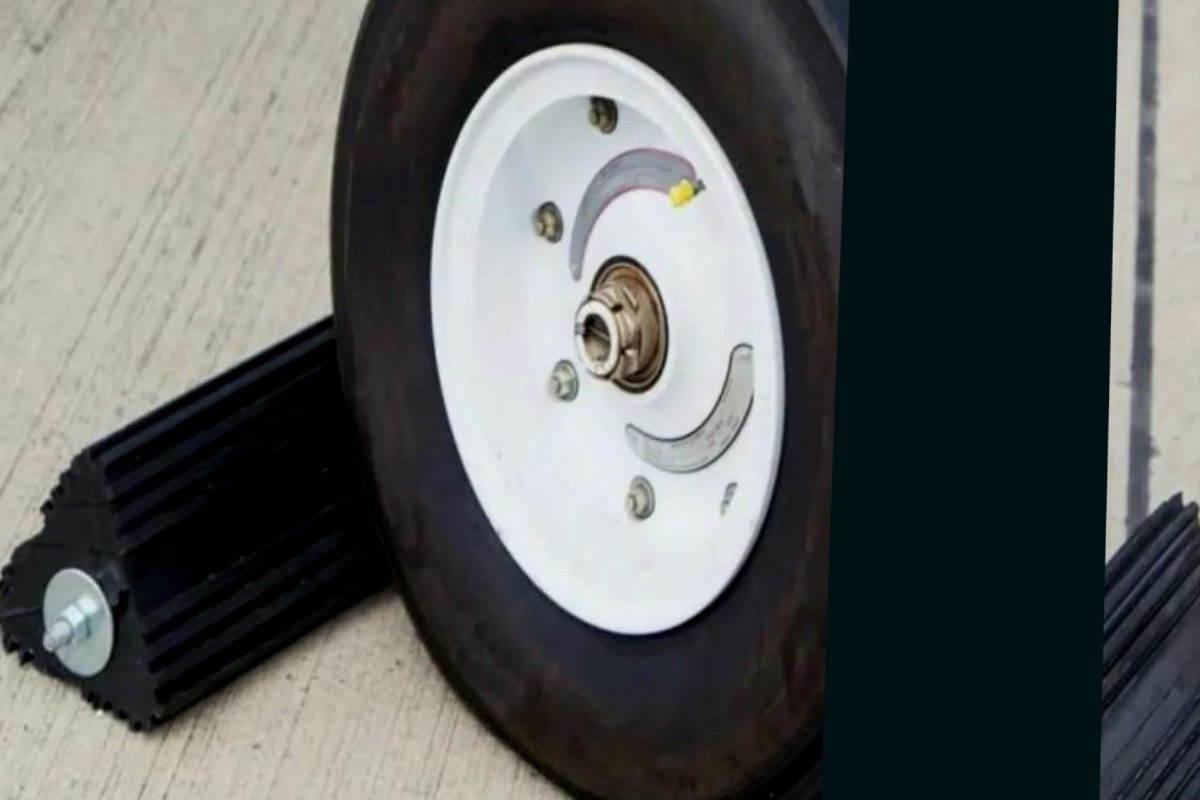chock: (0, 253, 470, 755), (717, 478, 1200, 800)
wheel: (293, 0, 1065, 800)
